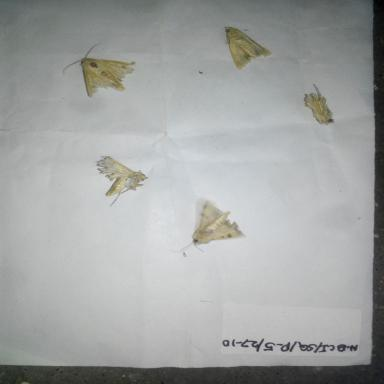abw: (57, 39, 144, 101), (174, 196, 254, 258), (90, 151, 156, 210), (216, 21, 275, 75), (296, 80, 346, 134)
